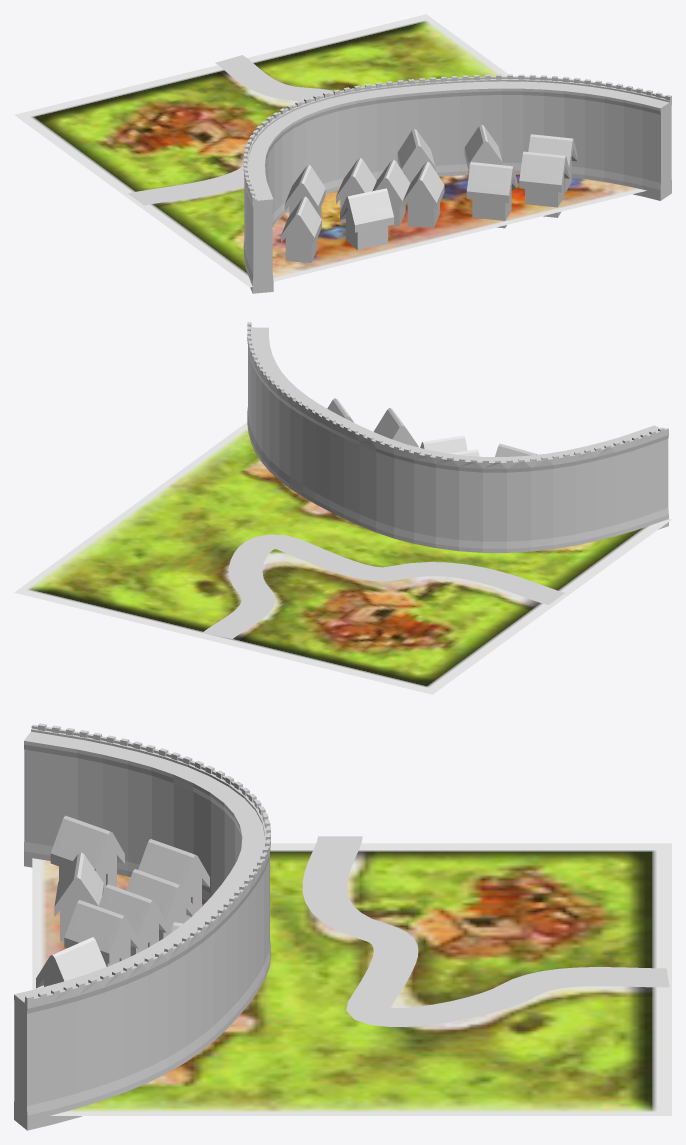
File: tile9.fbx
3 views of the same model, one above another, from view 1: azimuth 30°, elevation 25°; view 2: azimuth 150°, elevation 25°; view 3: azimuth 270°, elevation 25° (orthographic). The views are drawn at different scales.
Visible parts, largest first — view 1: BezierCurve.012; view 2: BezierCurve.012; view 3: BezierCurve.012.
Boxes of the visible parts, <box> form: BezierCurve.012: <box>14,14,671,293</box>; BezierCurve.012: <box>14,322,671,694</box>; BezierCurve.012: <box>14,723,671,1130</box>.
Size of the model in its own units: 103 by 23.63 by 103.
